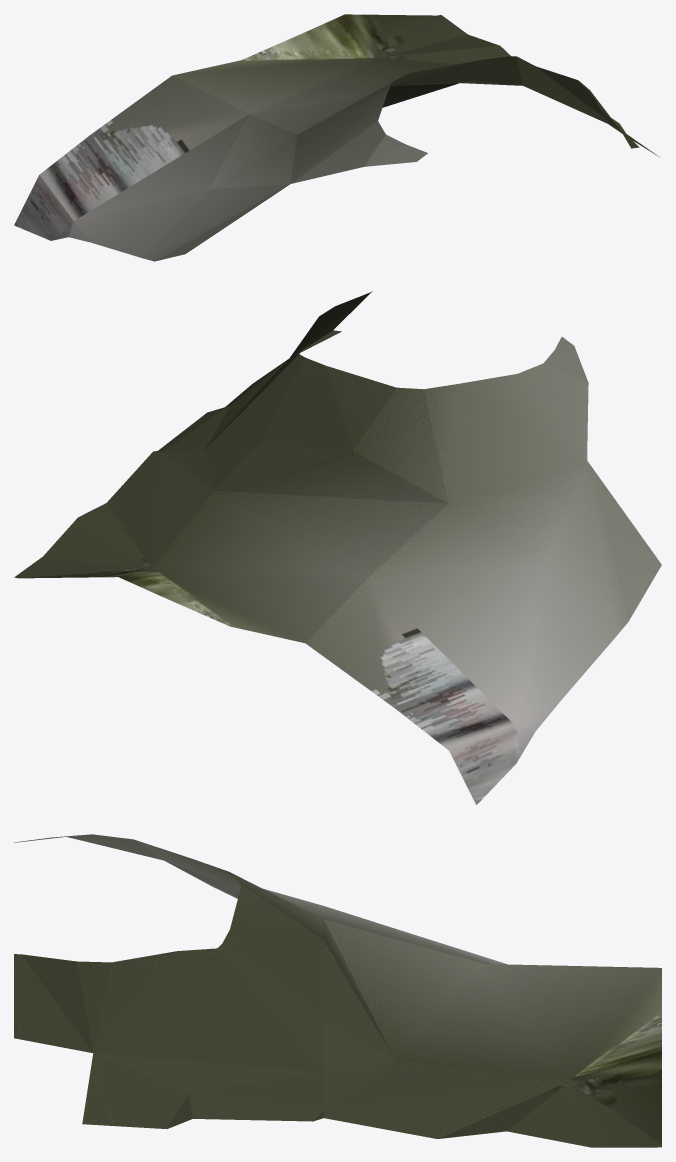
3 views of the same model, one above another, from view 1: azimuth 30°, elevation 25°; view 2: azimuth 150°, elevation 25°; view 3: azimuth 270°, elevation 25° (orthographic). The views are drawn at different scales.
Size of the model in its own units: 1.67 by 0.7939 by 1.67.
2 materials, 2 textured.
